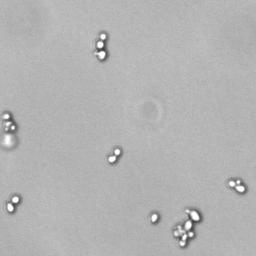budding: (93, 27, 109, 62), (227, 172, 249, 197), (3, 191, 22, 216), (106, 143, 125, 168)
cluster: (170, 206, 203, 249), (1, 107, 20, 152)
individual: (147, 208, 161, 227)
